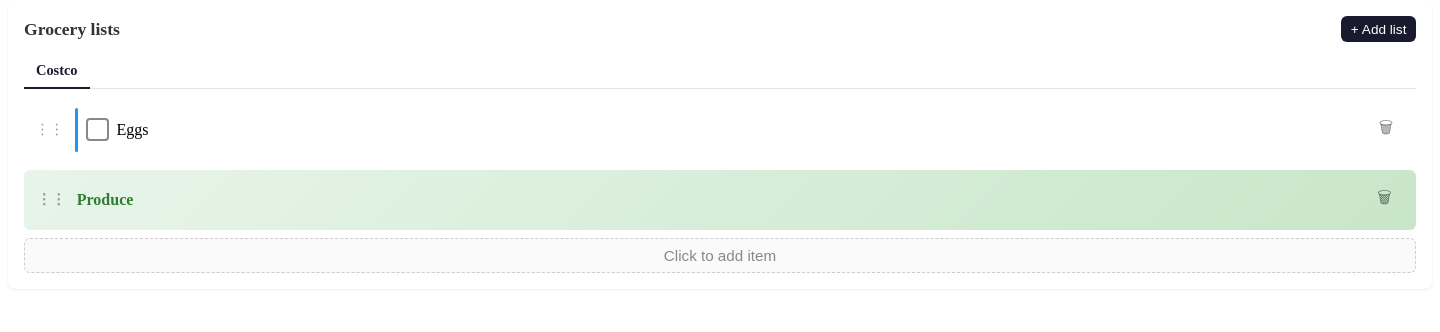
Test case: GroceryLists item delete flow › falls back to the error message when the API has no detail
Expected: the button "Eggs" is shown, [116,121,148,138]
Click the button named "Delete" at (1386, 130), box [1364,108,1408,152]
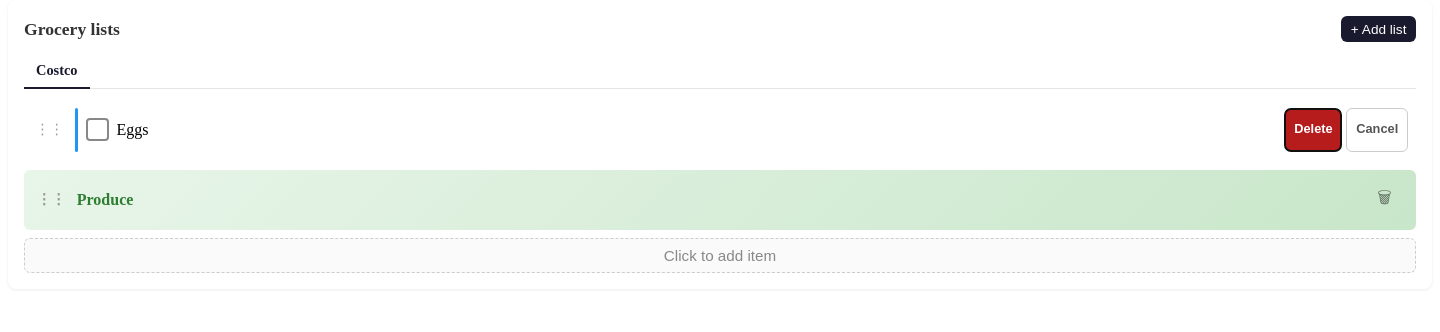
Click the button with aria-label "Confirm delete" at (1313, 130), box [1284,108,1342,152]
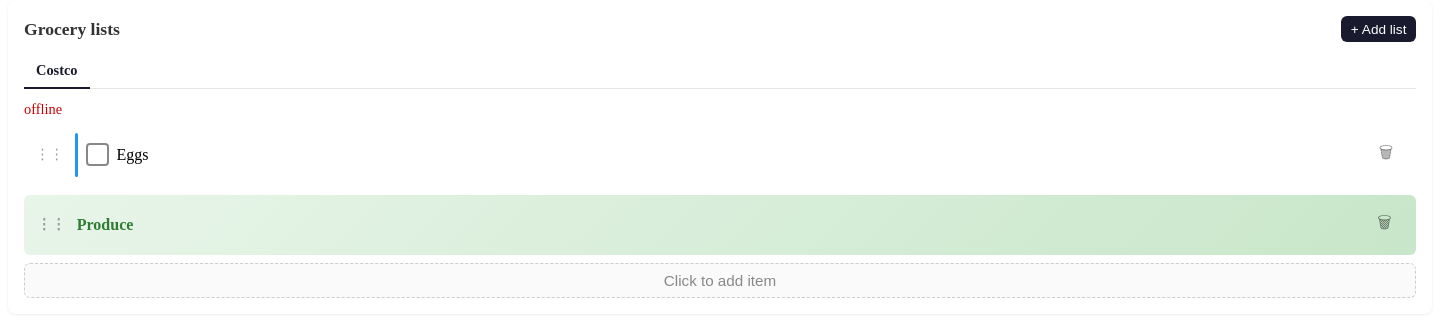
Result: the text "offline" is shown at [24,101,62,117]
